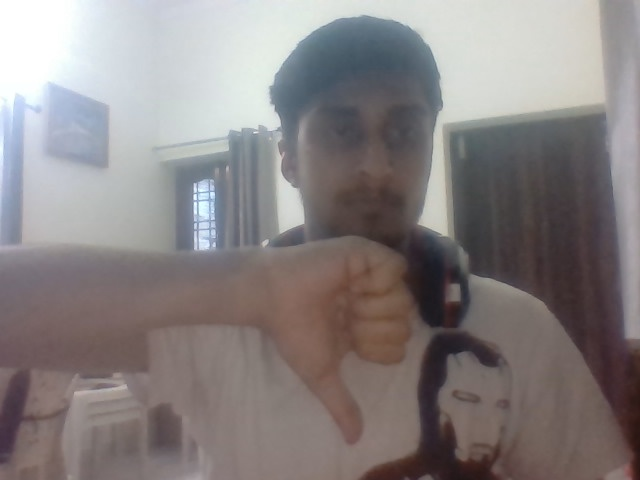ThumbsDown: (273, 235, 412, 446)
